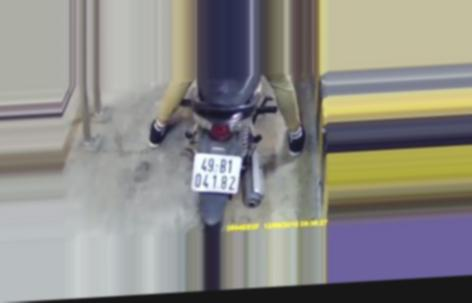License_Plate: (188, 147, 245, 199)
